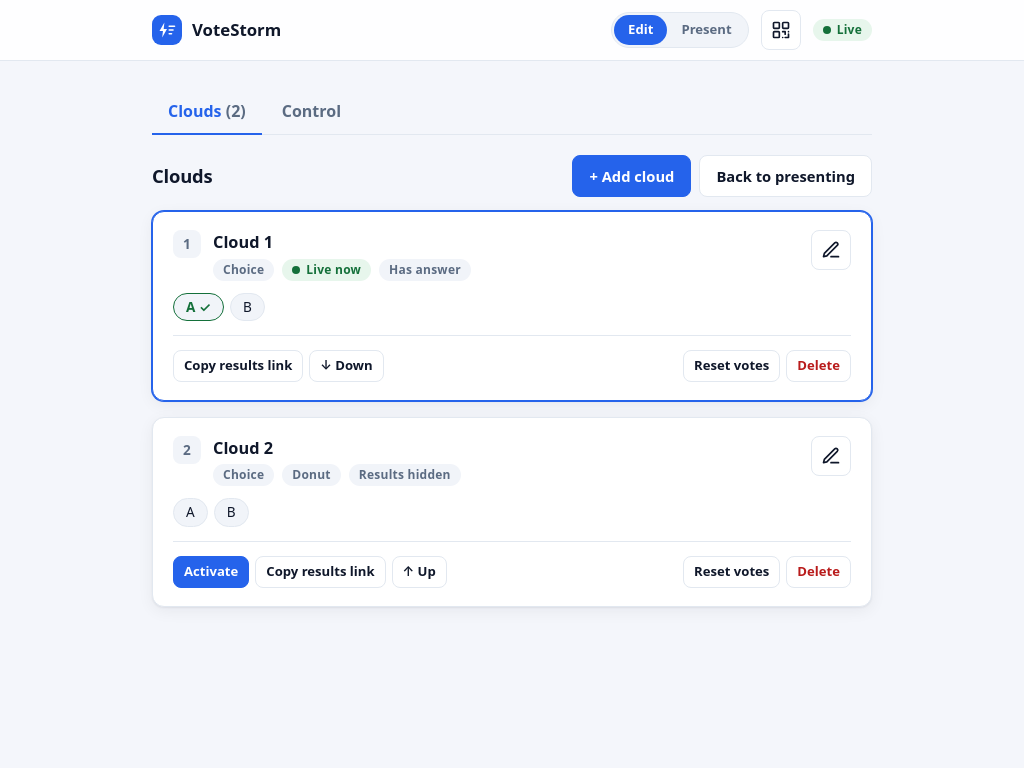
Test: PresenterView › the edit overlay in Present mode › a failed save keeps it open with the error shown inside it
Click the button "Present".
click(707, 30)  # box [667,15,746,45]
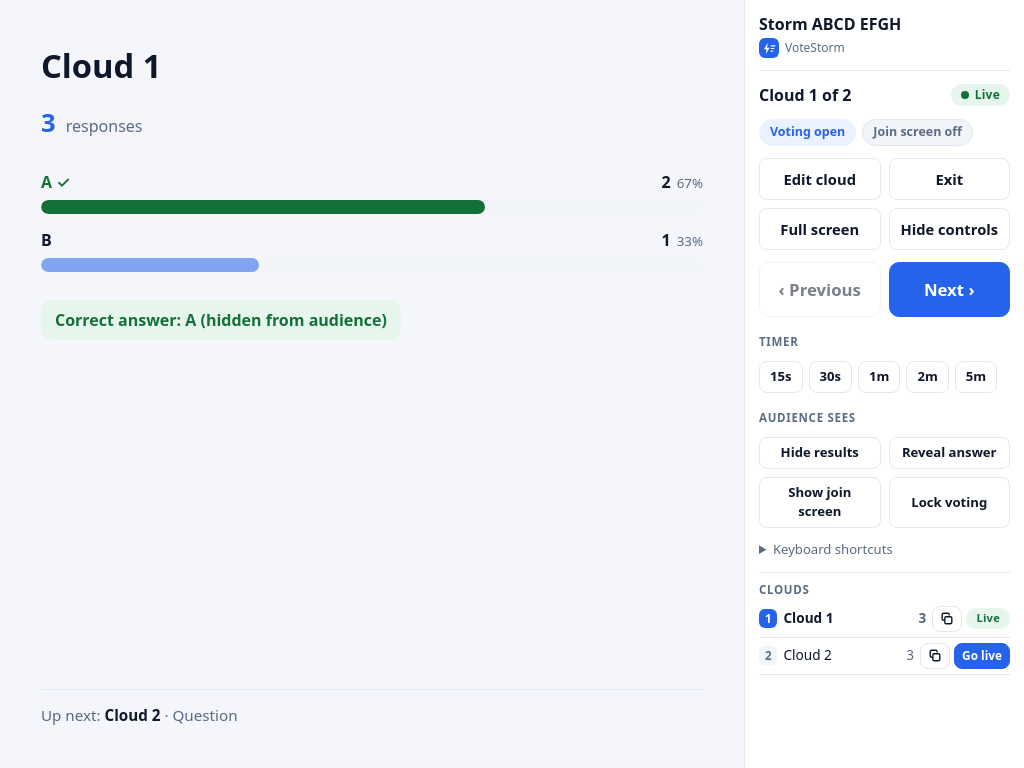
Click the button with class "edit-cloud".
click(820, 179)  # box [759,158,880,200]
(page scrolled)
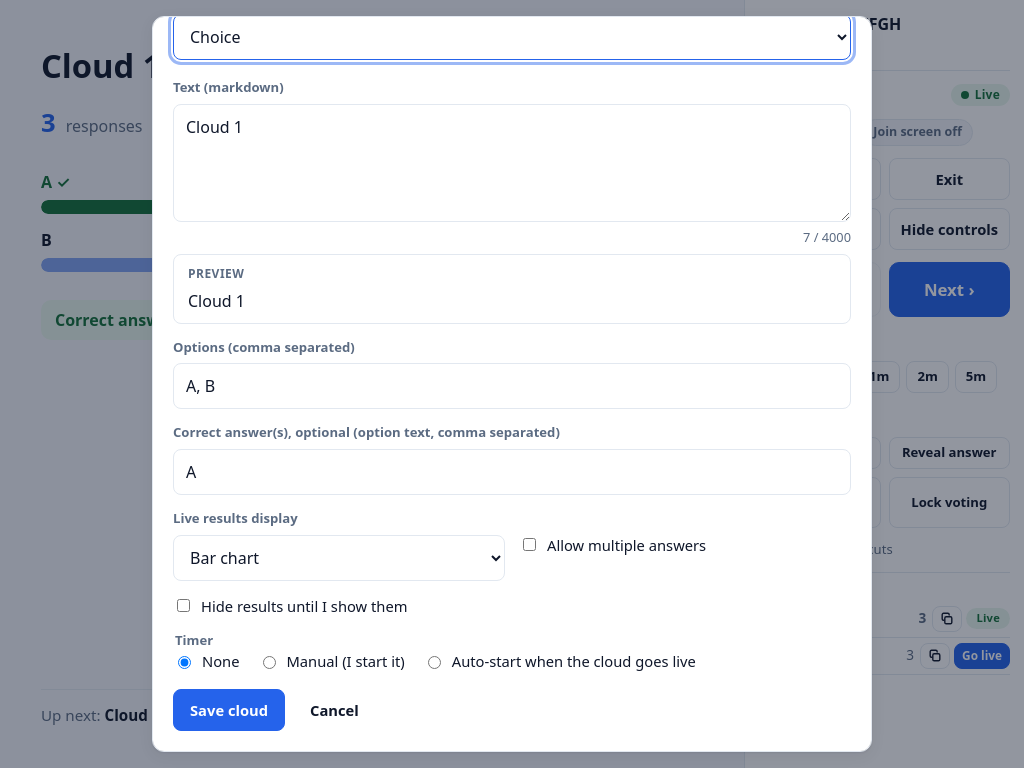
Click the button "Save cloud".
click(229, 710)  # box [173,688,285,731]
(page scrolled)
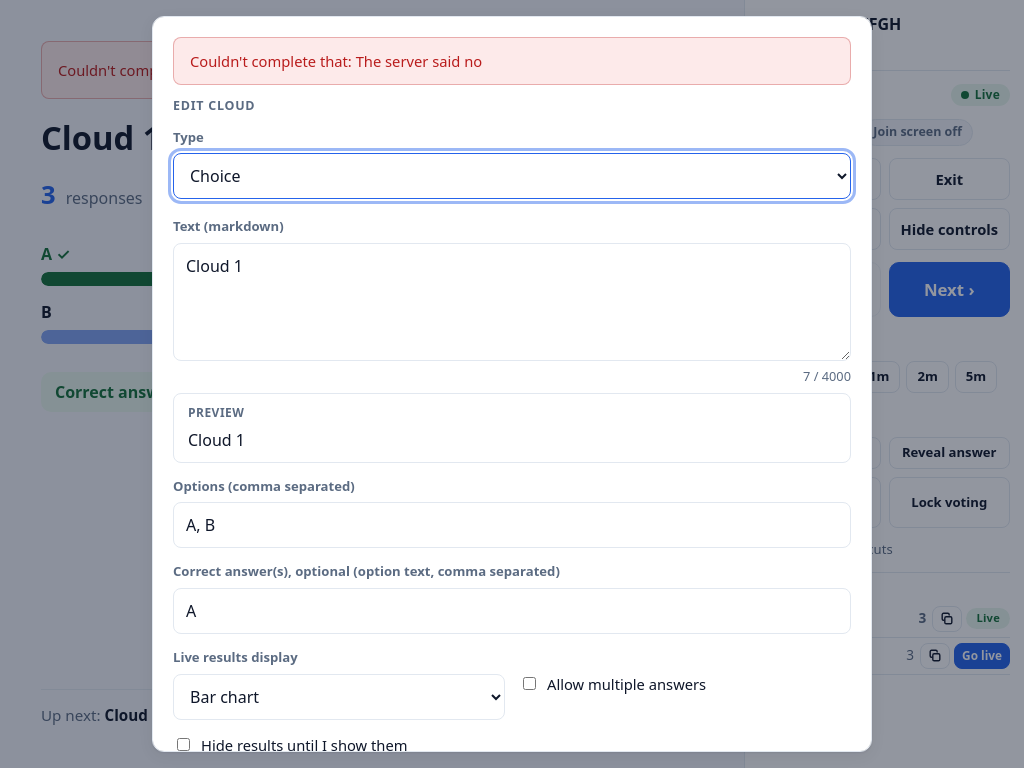
Expected: the dialog named "Edit cloud" is shown
Expected: the message "Couldn't complete that: The server said no" is shown, [173,37,851,85]
